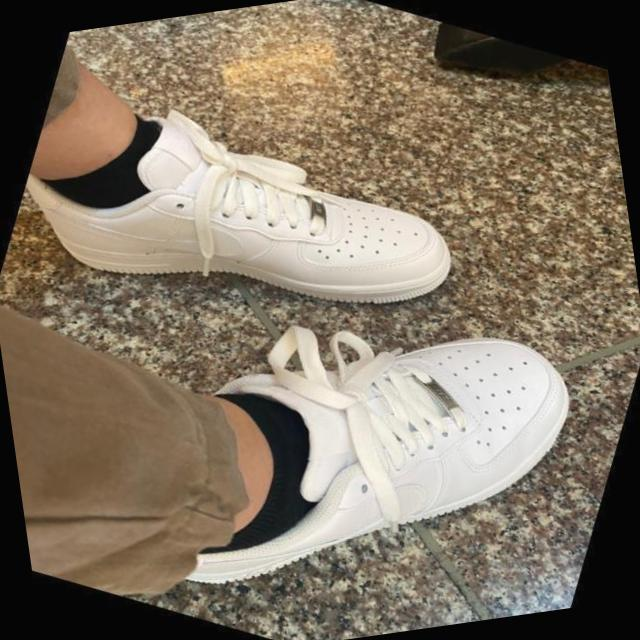nike_original_airforce: (102, 210, 629, 640), (0, 20, 497, 421)
